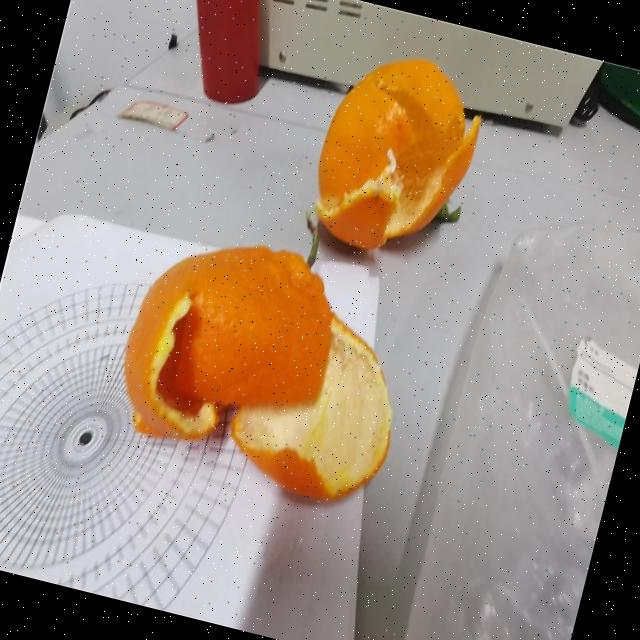orange-peel: (105, 215, 352, 472), (298, 38, 494, 270), (216, 293, 417, 515)
